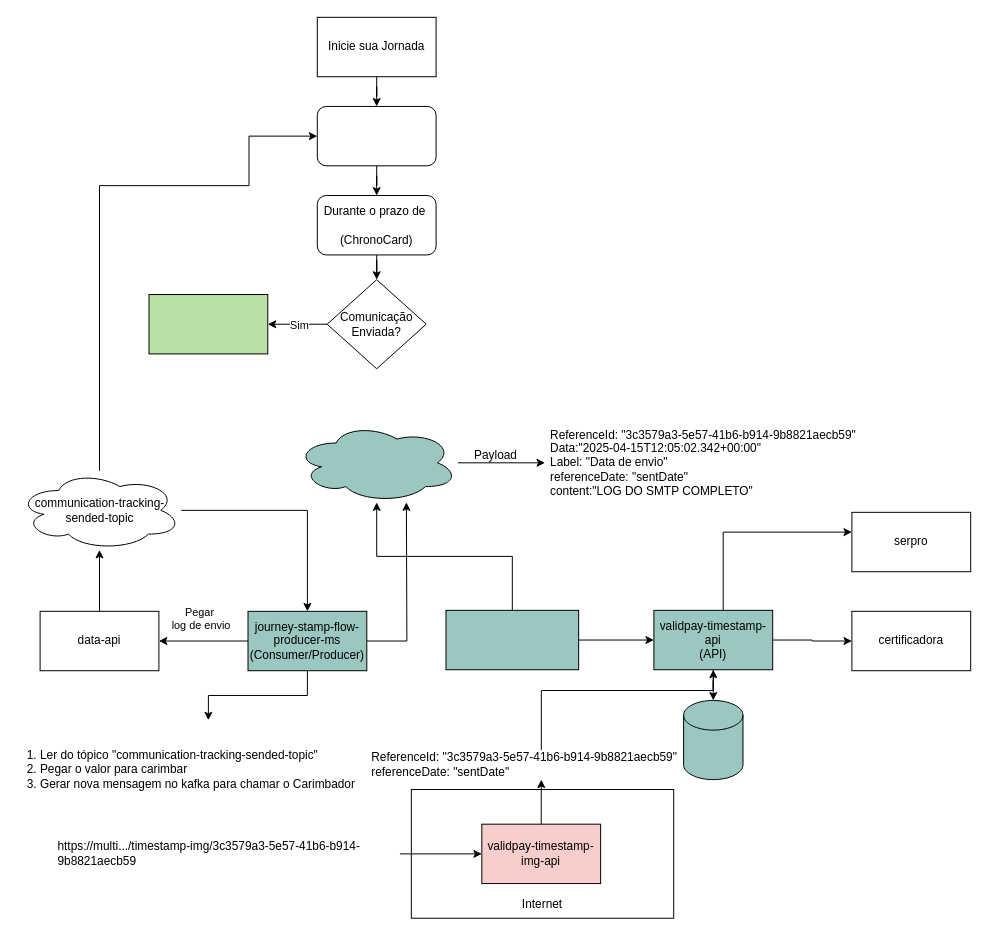
This 988x936 diagram has some shape labels left out. The box of each missing label's shape, as (x1, y1, x2, y2) in pixels:
Carimbar Log de Envio: (148, 294, 268, 354)
Enviar Email (JourneyFlow): (316, 105, 436, 166)
MongoDB: (683, 699, 743, 780)
multichannel-timestamp-service-ms (Consumer): (445, 609, 579, 670)
timestamp-request: (295, 422, 458, 502)
